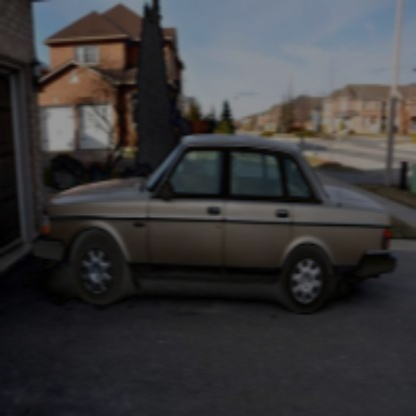Vehicle: (28, 131, 400, 318)
